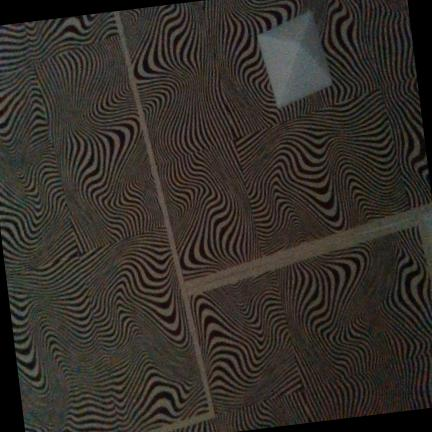Piramide: (257, 10, 333, 109)
